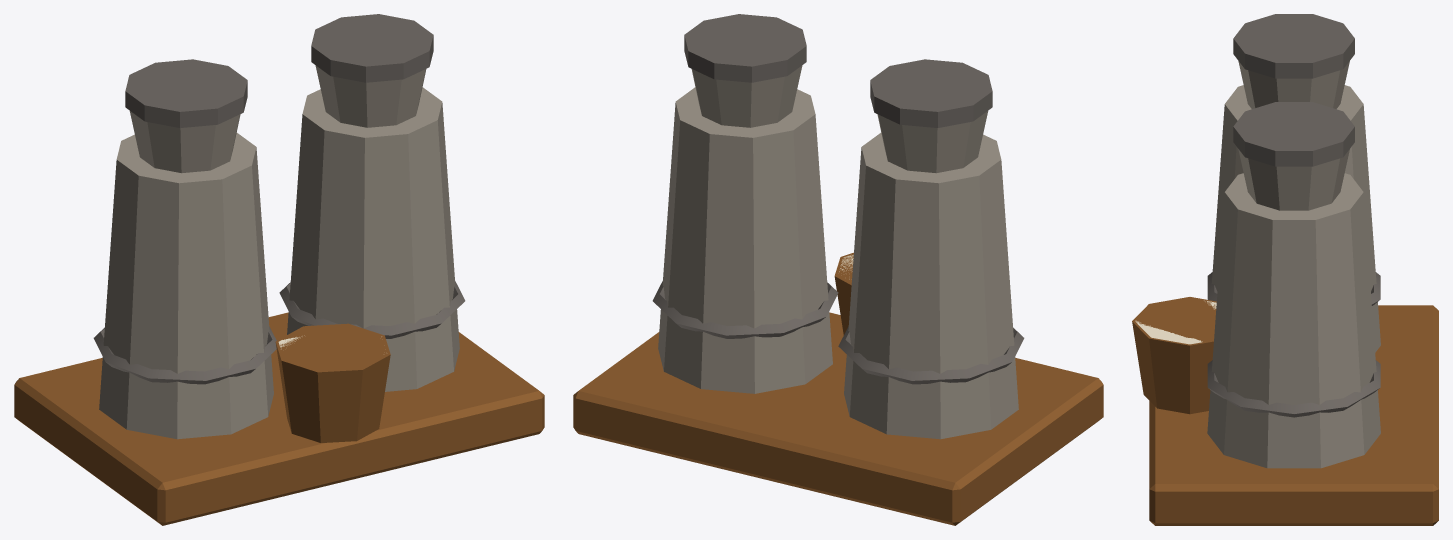
Rendered from PR_Station_Sut_T1.fbx.
The picture shows the model from 3 angles, left to right: view 1: azimuth 30°, elevation 25°; view 2: azimuth 150°, elevation 25°; view 3: azimuth 270°, elevation 25°; orthographic projection. The views are drawn at different scales.
Visible parts, largest first — view 1: PR_Station_Sut_T1; view 2: PR_Station_Sut_T1; view 3: PR_Station_Sut_T1.
Boxes of the visible parts, x1,y1,x2,y2 form: PR_Station_Sut_T1: [14, 14, 544, 525]; PR_Station_Sut_T1: [573, 14, 1103, 525]; PR_Station_Sut_T1: [1132, 14, 1438, 525].
Bounding box in the file's own units: 0.75 × 0.675 × 0.53.
